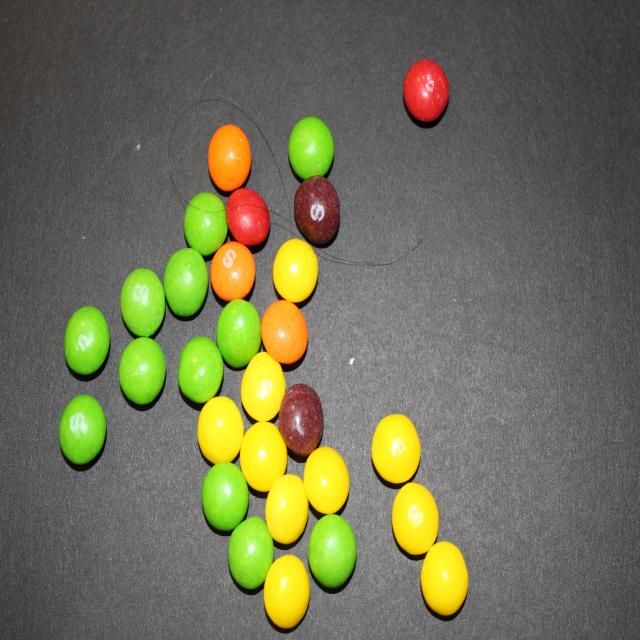smartie: (308, 514, 357, 589), (421, 542, 469, 617), (263, 555, 310, 629), (372, 414, 421, 484), (240, 421, 287, 492), (393, 483, 439, 555), (228, 517, 273, 590), (58, 395, 105, 464), (279, 383, 323, 456), (197, 396, 244, 464), (118, 337, 165, 405), (201, 463, 248, 531), (63, 306, 109, 375), (294, 175, 340, 244), (265, 474, 309, 545), (120, 268, 165, 337), (163, 247, 208, 316), (177, 336, 223, 403), (304, 447, 349, 515), (216, 299, 261, 367), (241, 352, 285, 421), (261, 299, 308, 363), (288, 115, 334, 178), (208, 123, 251, 190), (273, 238, 318, 302), (404, 58, 450, 120), (183, 191, 227, 255), (210, 241, 255, 300), (226, 187, 270, 245)
